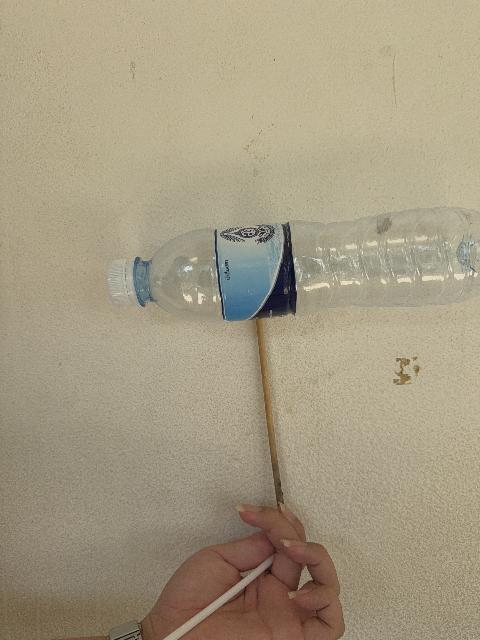bottle: (108, 208, 479, 322)
